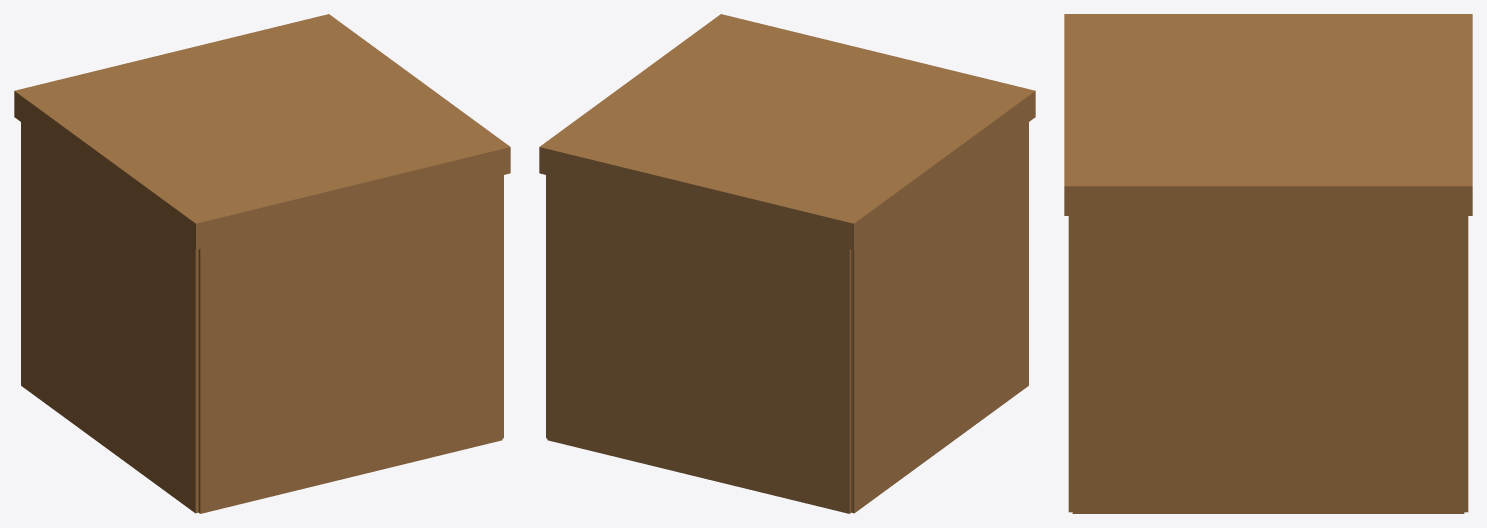
File: crate.glb
The picture shows the model from 3 angles, left to right: view 1: azimuth 30°, elevation 25°; view 2: azimuth 150°, elevation 25°; view 3: azimuth 270°, elevation 25°; orthographic projection. The views are drawn at different scales.
Visible parts, largest first — view 1: crate; view 2: crate; view 3: crate.
Part boxes in pixels (x1,y1,x2,y2): crate: [14, 14, 510, 513]; crate: [539, 14, 1035, 513]; crate: [1064, 14, 1472, 513].
Size of the model in its own units: 1 by 0.89 by 1.
